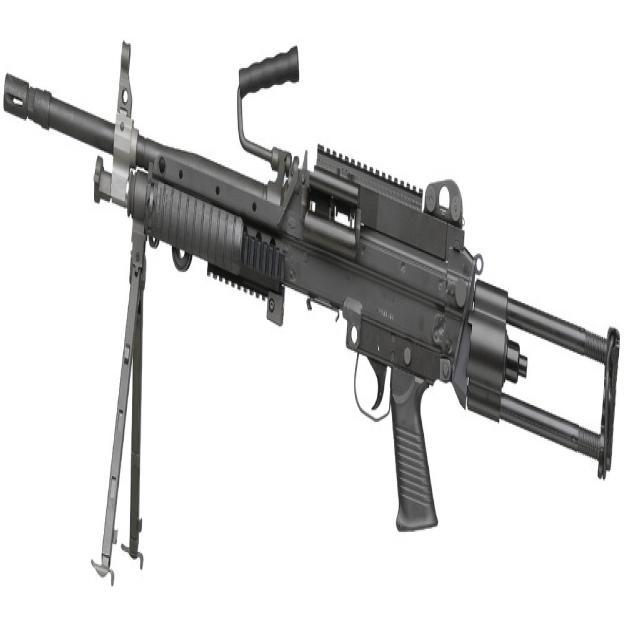weapon: (3, 40, 620, 587)
